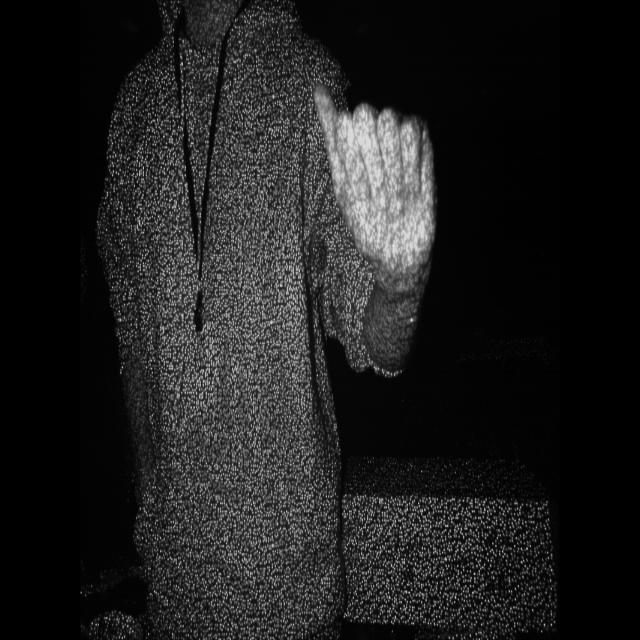A: (313, 77, 442, 324)
